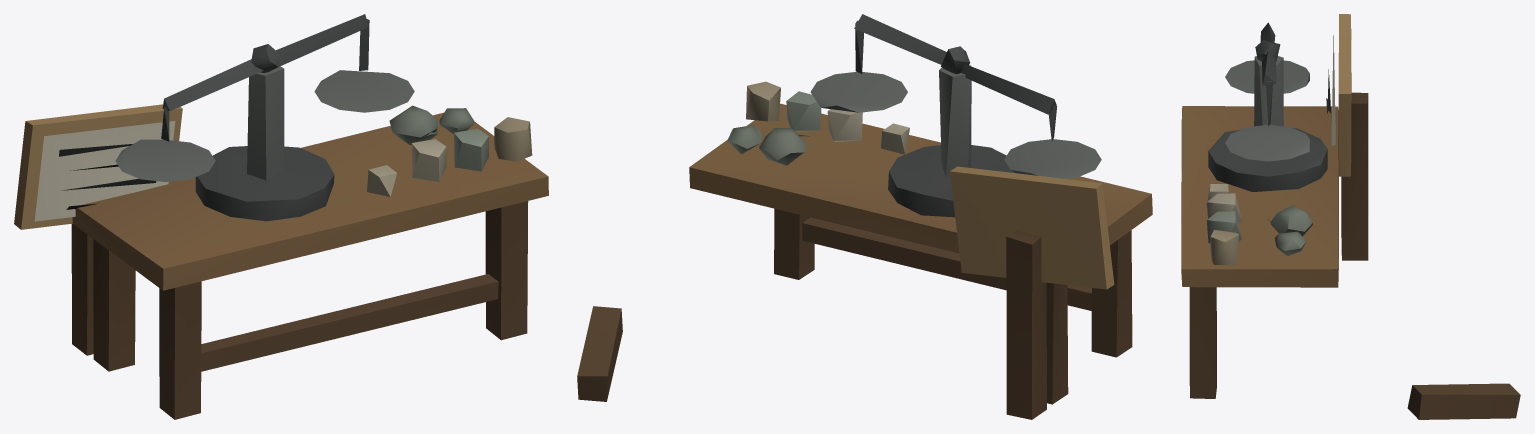
The model's file is assay_bench_b_lod2.glb.
3 views of the same model, side by side, from view 1: azimuth 30°, elevation 25°; view 2: azimuth 150°, elevation 25°; view 3: azimuth 270°, elevation 25° (orthographic). The views are drawn at different scales.
Parts seen in each view (by area): view 1: Surface.001; view 2: Surface.001; view 3: Surface.001.
Boxes of the visible parts, x1,y1,x2,y2 form: Surface.001: [14, 14, 548, 419]; Surface.001: [577, 14, 1152, 419]; Surface.001: [1181, 14, 1520, 419].
Size of the model in its own units: 3 by 1.91 by 2.08.
